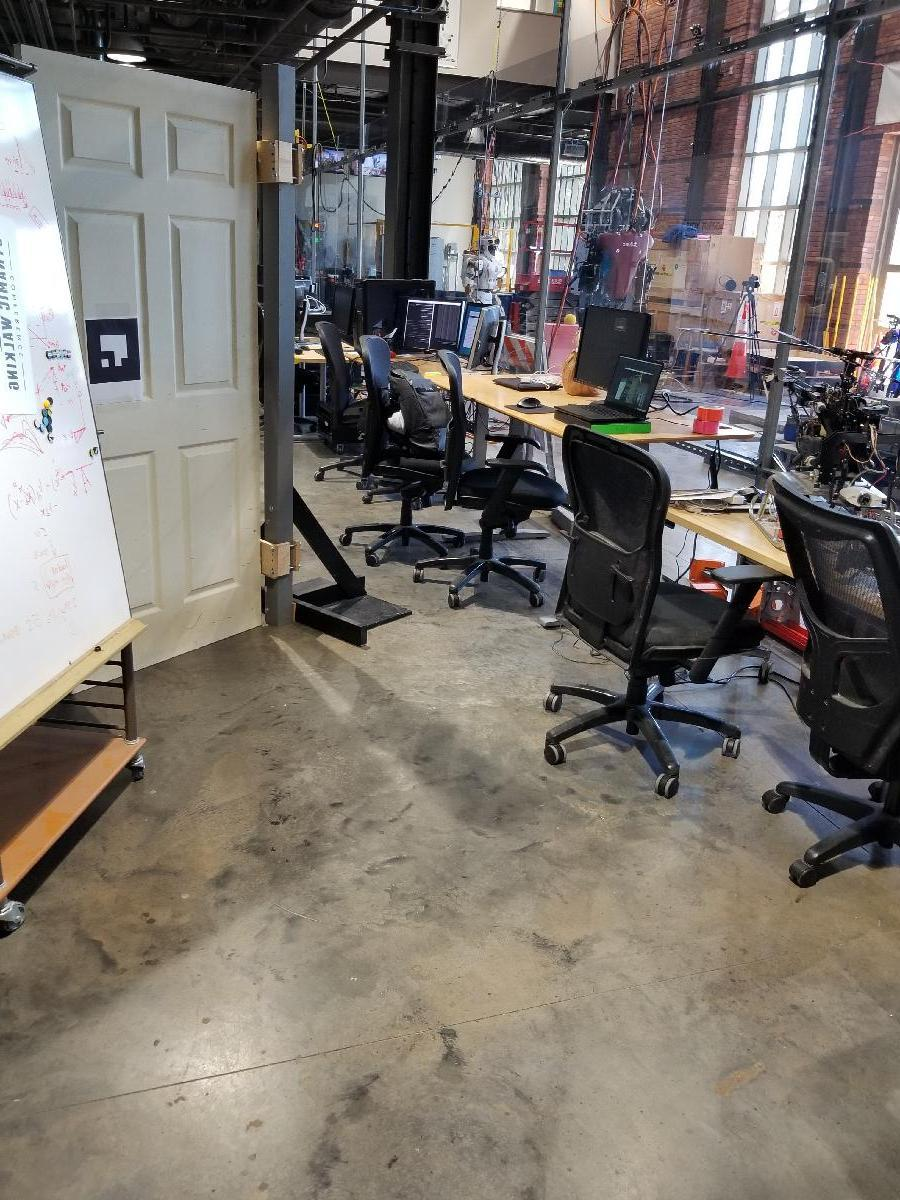door: (29, 85, 262, 647)
